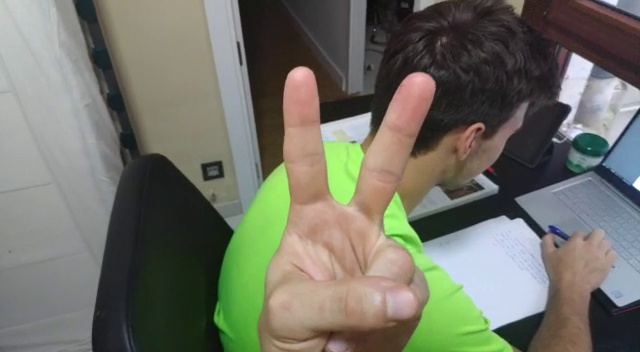Peace: (258, 70, 439, 348)
